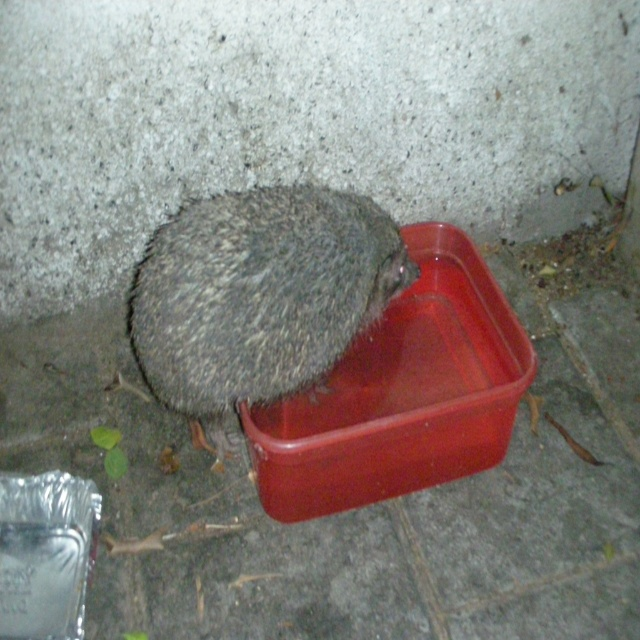Hedgehog: (128, 183, 424, 456)
